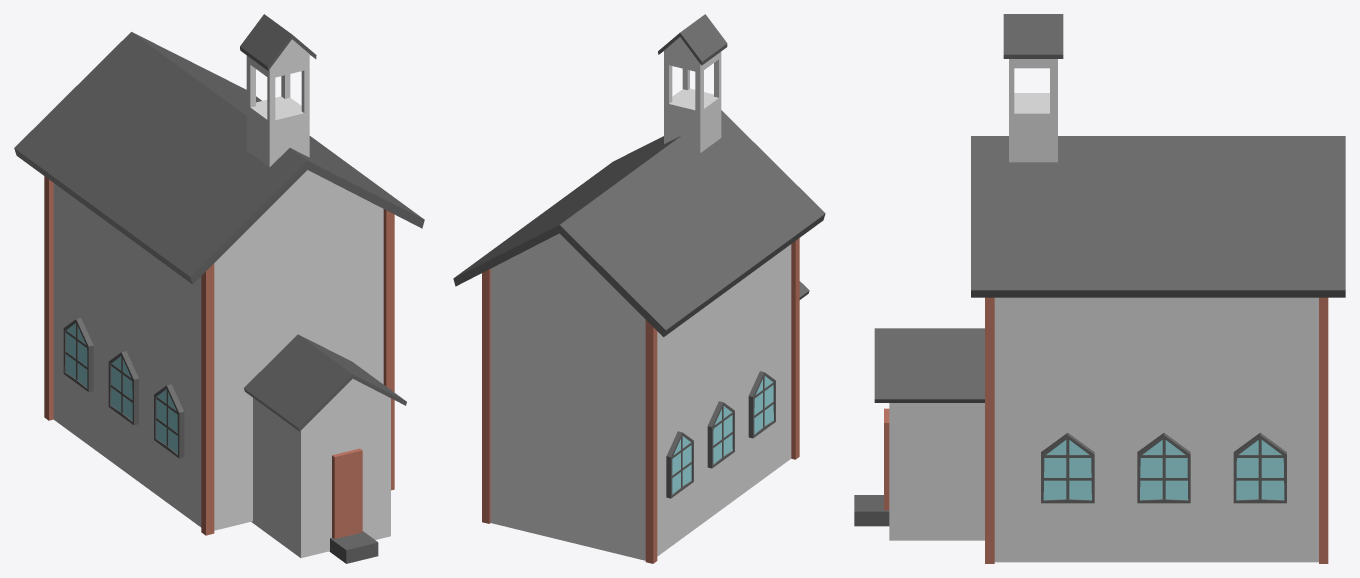
Rendered from church.fbx.
3 views of the same model, side by side, from view 1: azimuth 30°, elevation 25°; view 2: azimuth 150°, elevation 25°; view 3: azimuth 270°, elevation 25° (orthographic). The views are drawn at different scales.
Visible parts, largest first — view 1: Church; view 2: Church; view 3: Church.
Boxes of the visible parts, bbox=[...] form: Church: bbox=[14, 14, 424, 563]; Church: bbox=[453, 14, 825, 563]; Church: bbox=[854, 14, 1345, 563].
Bounding box in the file's own units: 1170 × 2261 × 1997.
